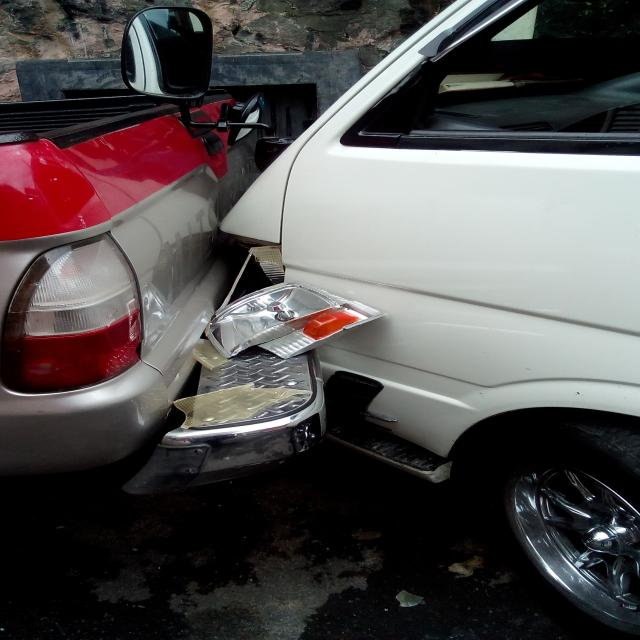crush: (207, 231, 389, 359)
